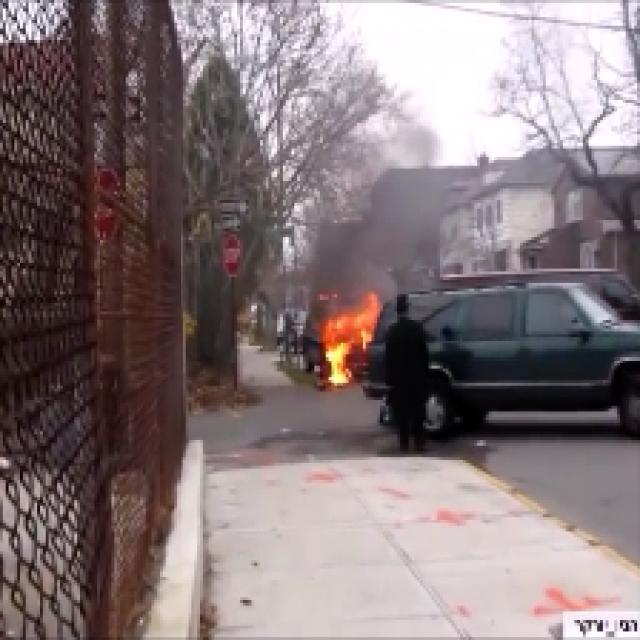fire: (324, 301, 384, 389)
smoke: (338, 218, 406, 284)
